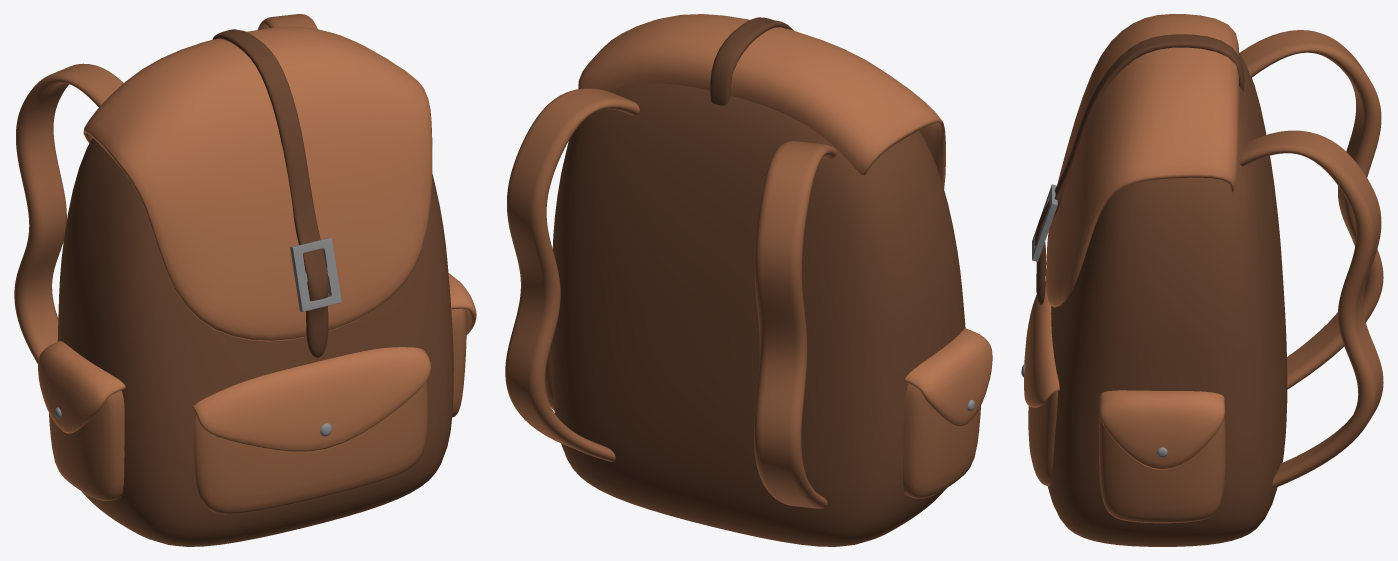
The model's file is zainetto.fbx.
3 renders of one model, left to right at view 1: azimuth 30°, elevation 25°; view 2: azimuth 150°, elevation 25°; view 3: azimuth 270°, elevation 25°, orthographic. The views are drawn at different scales.
Parts seen in each view (by area): view 1: top cover, main part of the backpack, back cover, back pocket, backpack straps, strap, side pockets, side covers, clasp; view 2: main part of the backpack, backpack straps, top cover, side pockets, side covers, strap; view 3: main part of the backpack, top cover, backpack straps, side pockets, side covers, strap, back cover, back pocket, clasp.
Boxes of the visible parts, x1,y1,x2,y2 form: top cover: [83, 26, 432, 341]; main part of the backpack: [57, 138, 453, 546]; back cover: [192, 347, 430, 452]; back pocket: [193, 381, 427, 514]; backpack straps: [14, 14, 317, 363]; strap: [212, 29, 328, 357]; side pockets: [49, 308, 466, 501]; side covers: [38, 273, 476, 433]; clasp: [290, 237, 341, 311]; main part of the backpack: [551, 83, 965, 546]; backpack straps: [505, 88, 836, 508]; top cover: [578, 14, 945, 188]; side pockets: [545, 347, 980, 498]; side covers: [904, 328, 992, 427]; strap: [710, 17, 793, 105]; main part of the backpack: [1047, 52, 1287, 546]; top cover: [1046, 14, 1238, 307]; backpack straps: [1238, 30, 1383, 488]; side pockets: [1099, 417, 1225, 523]; side covers: [1099, 390, 1224, 469]; strap: [1034, 34, 1244, 304]; back cover: [1024, 281, 1059, 407]; back pocket: [1028, 391, 1057, 486]; clasp: [1032, 184, 1057, 261].
Size of the model in its own units: 43.42 by 47.53 by 33.79.
